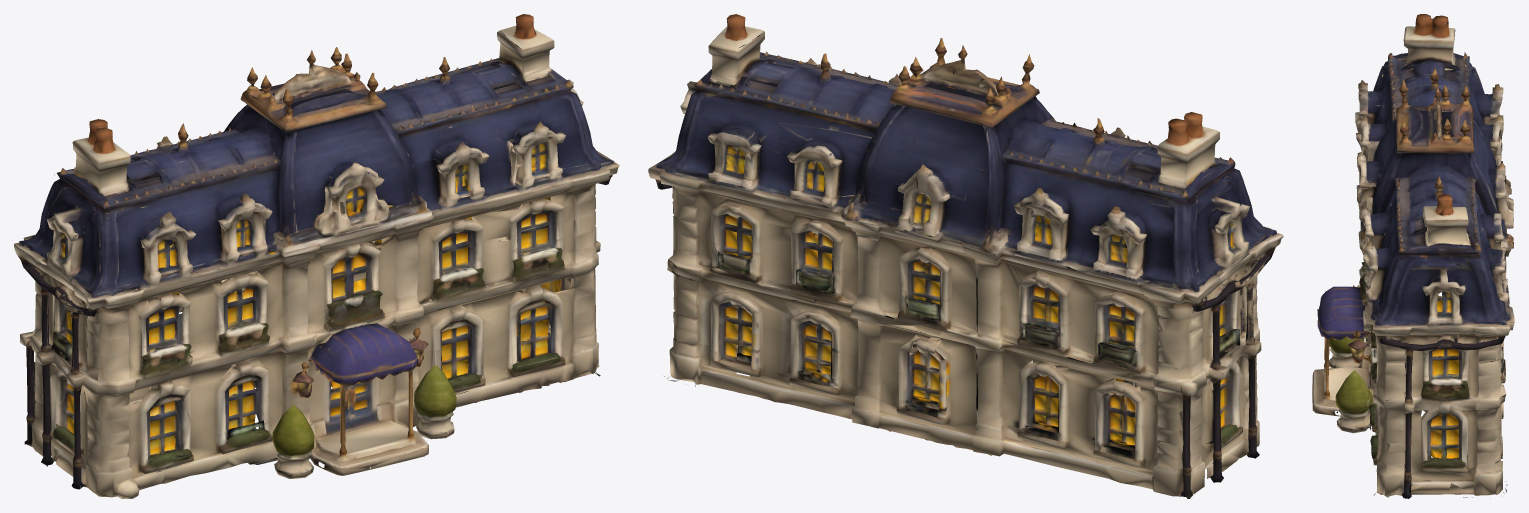
3 views of the same model, side by side, from view 1: azimuth 30°, elevation 25°; view 2: azimuth 150°, elevation 25°; view 3: azimuth 270°, elevation 25° (orthographic). The views are drawn at different scales.
Parts seen in each view (by area): view 1: classic__skyscraper_1__neural_lod; view 2: classic__skyscraper_1__neural_lod; view 3: classic__skyscraper_1__neural_lod.
Part boxes in pixels (x1,y1,x2,y2): classic__skyscraper_1__neural_lod: (14, 14, 619, 498); classic__skyscraper_1__neural_lod: (648, 14, 1283, 498); classic__skyscraper_1__neural_lod: (1312, 14, 1514, 498).
Bounding box in the file's own units: 0.9882 × 0.6406 × 0.3796.
1 material, 1 textured.
